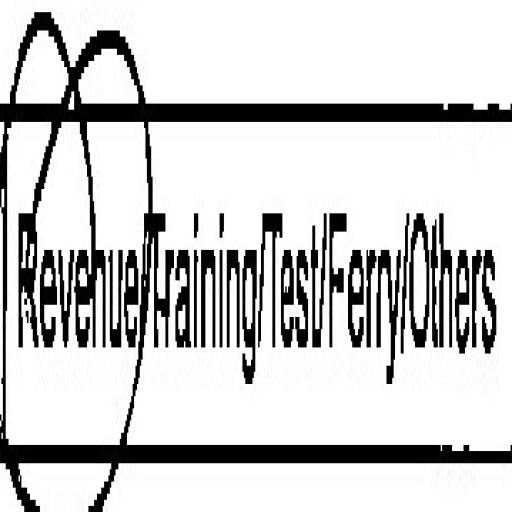check: (1, 0, 151, 512)
